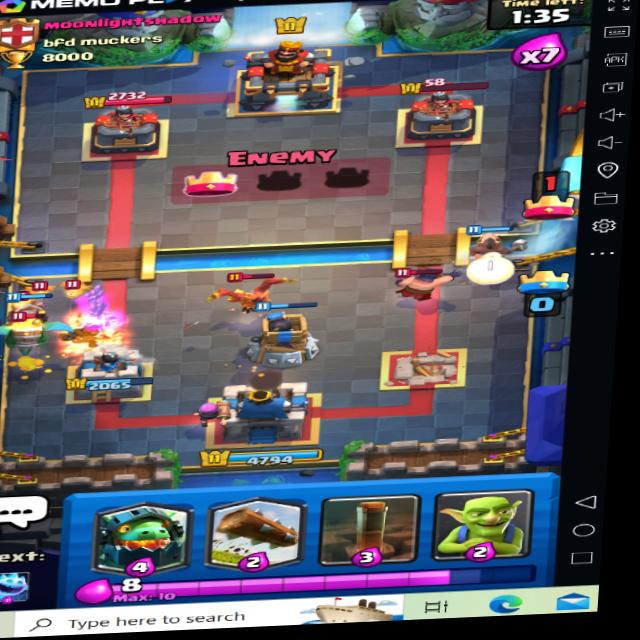executioner: (390, 259, 457, 301)
phoenix: (198, 264, 315, 328)
